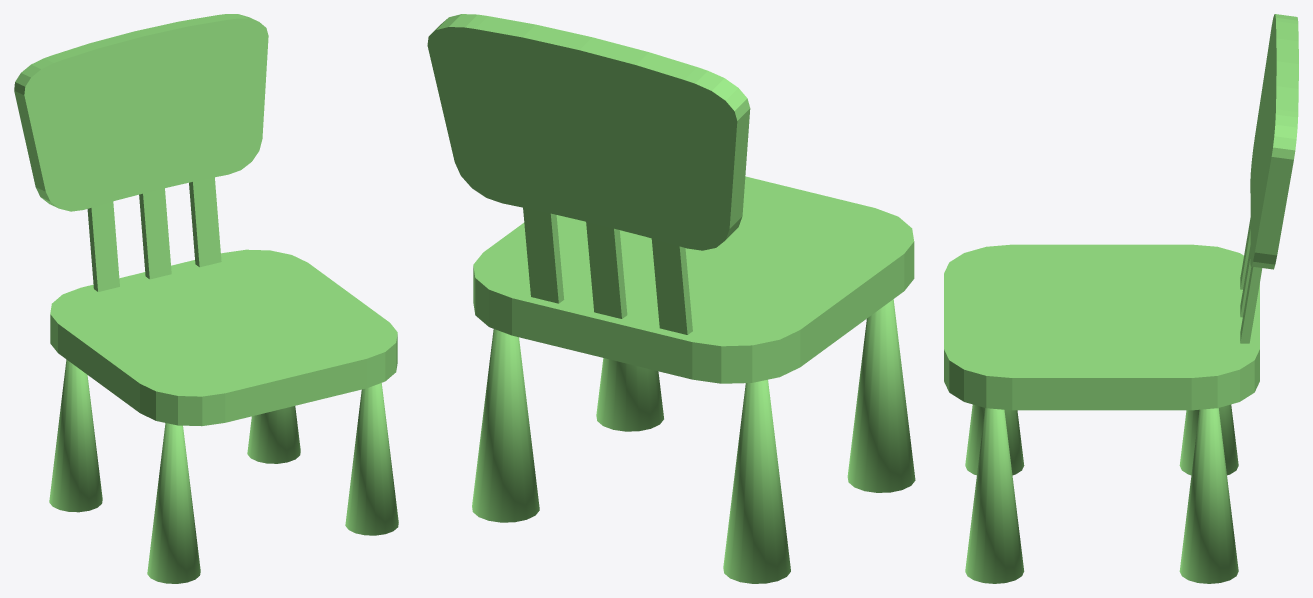
Rendered from Chair.fbx.
The picture shows the model from 3 angles, left to right: view 1: azimuth 30°, elevation 25°; view 2: azimuth 150°, elevation 25°; view 3: azimuth 270°, elevation 25°; orthographic projection. The views are drawn at different scales.
Visible parts, largest first — view 1: 큐브, 큐브.004, 실린더, 큐브.001; view 2: 큐브.004, 큐브, 실린더, 큐브.001; view 3: 큐브, 실린더, 큐브.004, 큐브.001.
Boxes of the visible parts, x1,y1,x2,y2 form: 큐브: (50, 249, 397, 426); 큐브.004: (14, 14, 268, 211); 실린더: (49, 359, 398, 583); 큐브.001: (87, 177, 221, 291); 큐브.004: (427, 14, 750, 250); 큐브: (473, 176, 914, 383); 실린더: (472, 299, 915, 583); 큐브.001: (523, 207, 692, 334); 큐브: (944, 244, 1259, 410); 실린더: (965, 404, 1238, 583); 큐브.004: (1250, 14, 1298, 269); 큐브.001: (1240, 218, 1262, 343).
Size of the model in its own units: 2 by 3.2 by 2.25.
